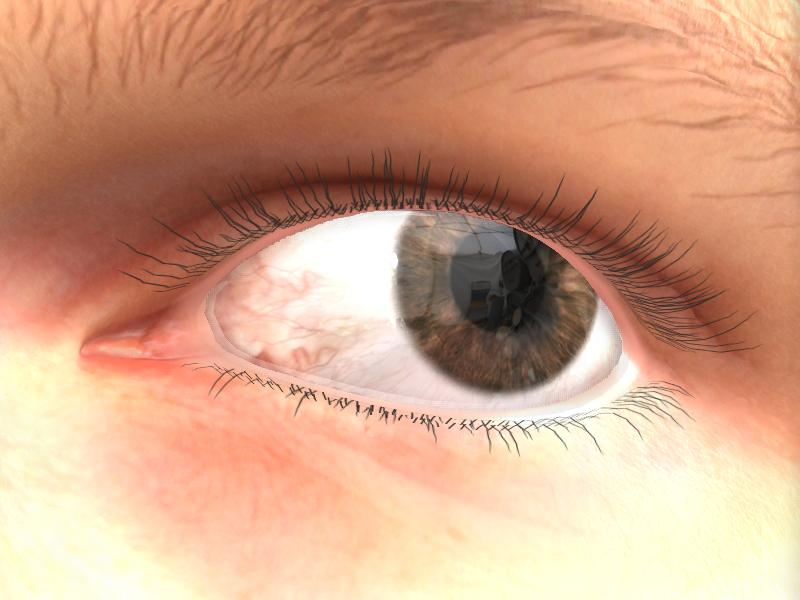eye: (388, 212, 600, 396)
